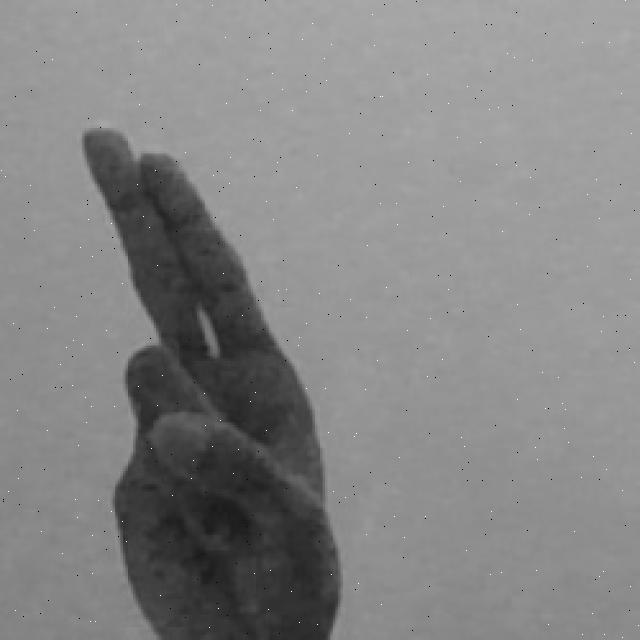U: (77, 120, 346, 640)
